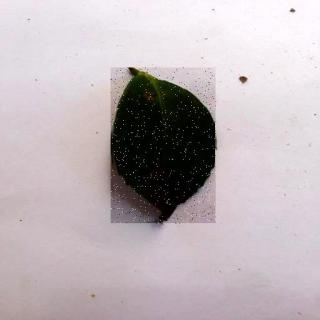Algal Leaf: (112, 69, 218, 225)
